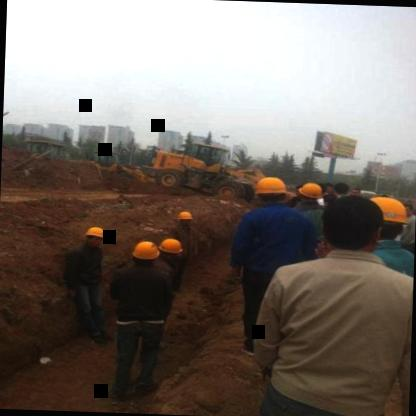head: (326, 194, 388, 257), (334, 180, 350, 196)
helmet: (370, 194, 410, 241), (253, 174, 289, 206), (130, 240, 161, 269), (154, 235, 186, 262), (296, 182, 326, 206), (86, 225, 106, 249), (175, 209, 196, 228)
